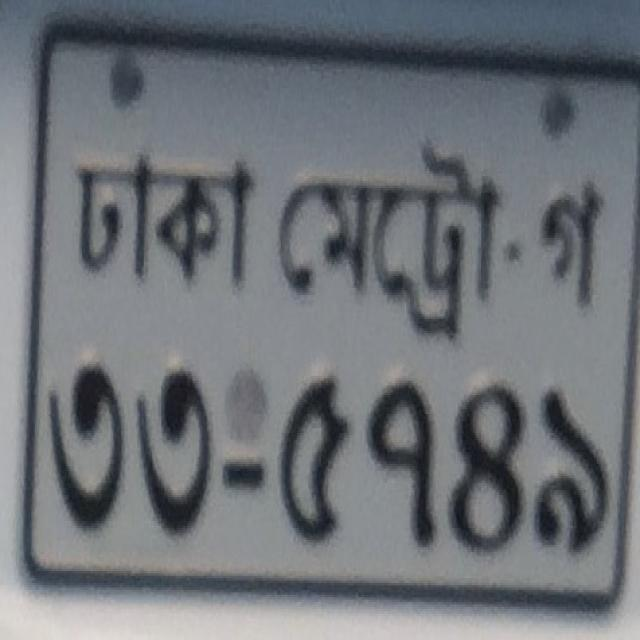numberplate: (18, 13, 637, 608)
